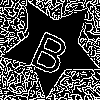B: (27, 22, 76, 77)
